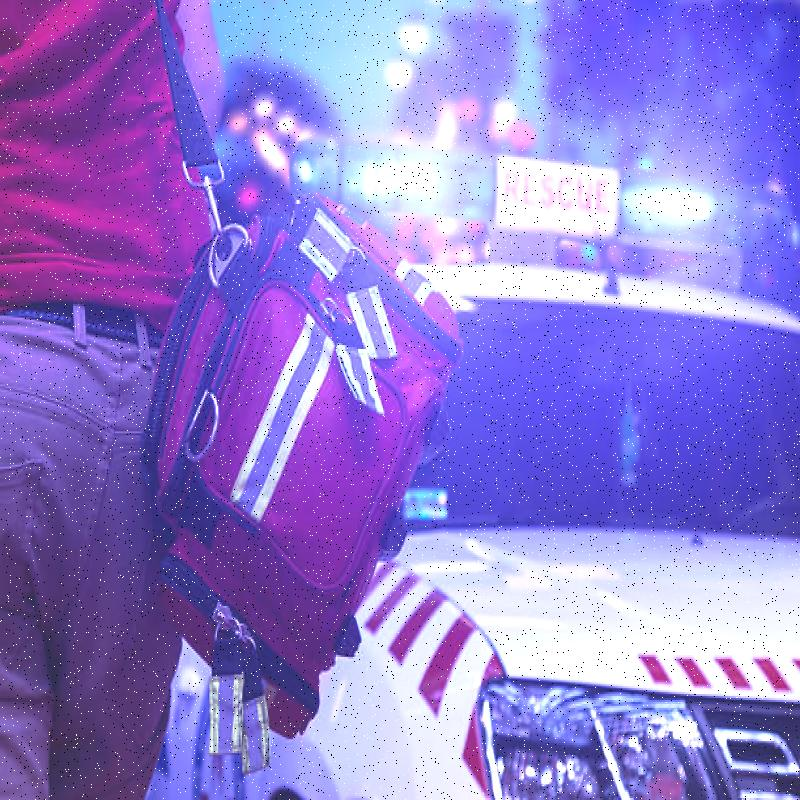AmbulanceSiren: (301, 118, 758, 305)
